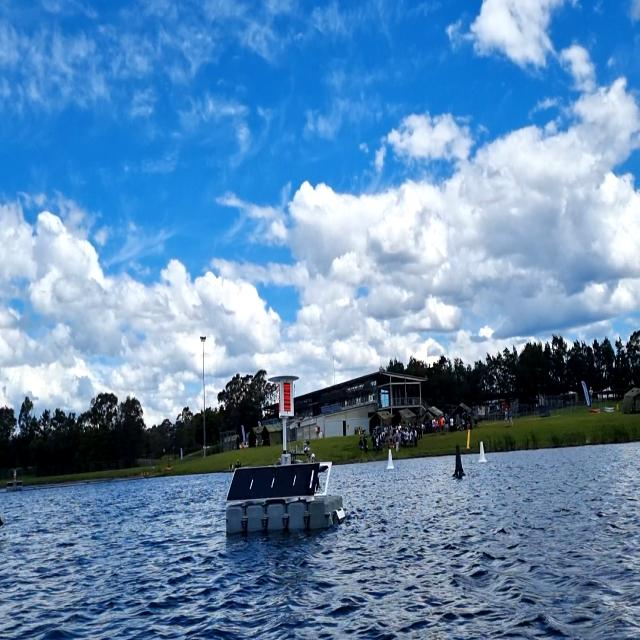led: (281, 379, 293, 415)
